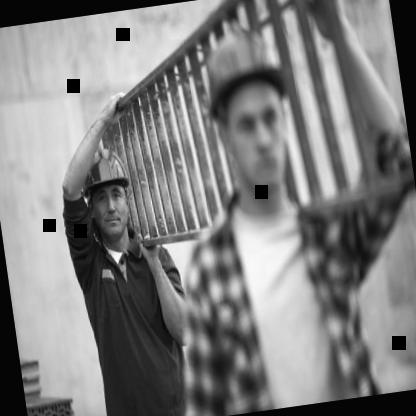helmet: (186, 8, 322, 218), (63, 127, 147, 260)
